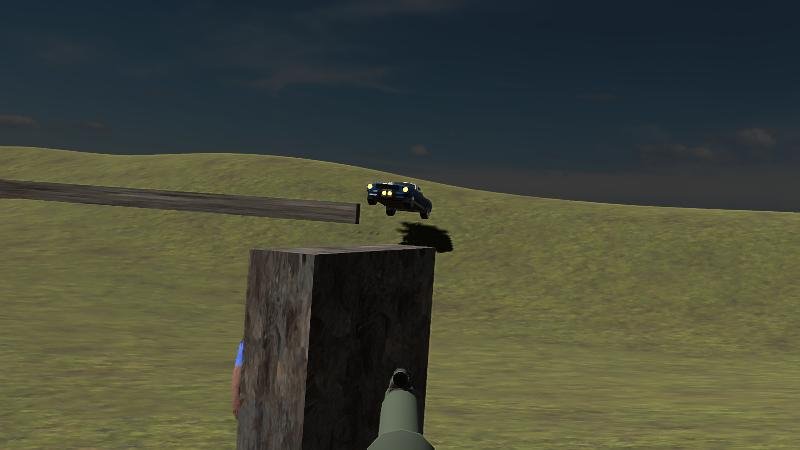car: (367, 180, 433, 220)
